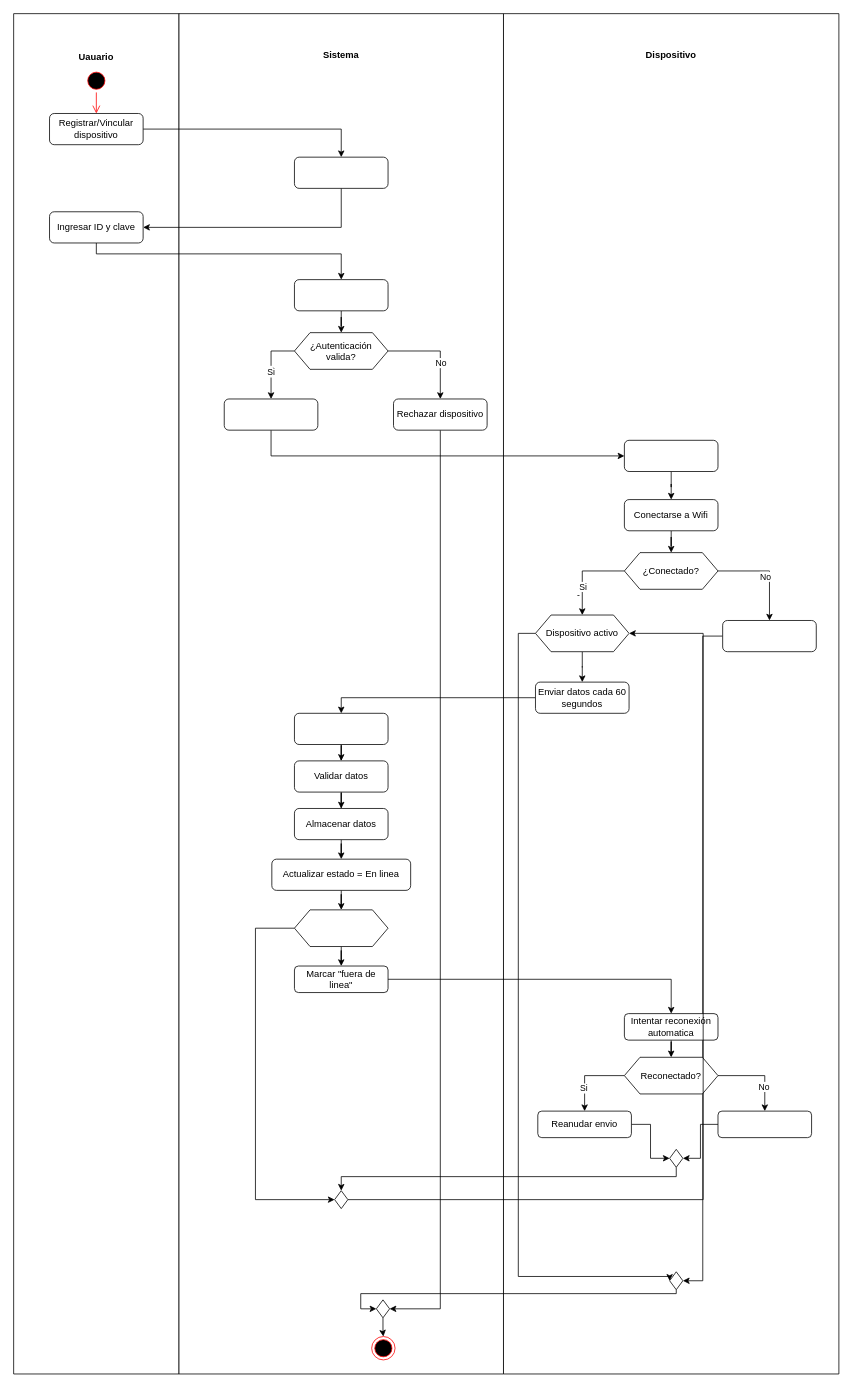
Some shapes in this 853 by 1388 pixel diagram are drawn without their labels. Each missing label, with the centre of its shape:
Asociar dispositivo al hogar: pixel 270 414
Encender dispositivo: pixel 671 456
Mantener intento de reconexión: pixel 764 1124
Recibir datos: pixel 341 729
Reintentar conexión Wifi: pixel 769 636
Solicitar ID y clave: pixel 341 172
Validar Credenciales: pixel 341 295
¿Datos no recibidos?: pixel 341 928
